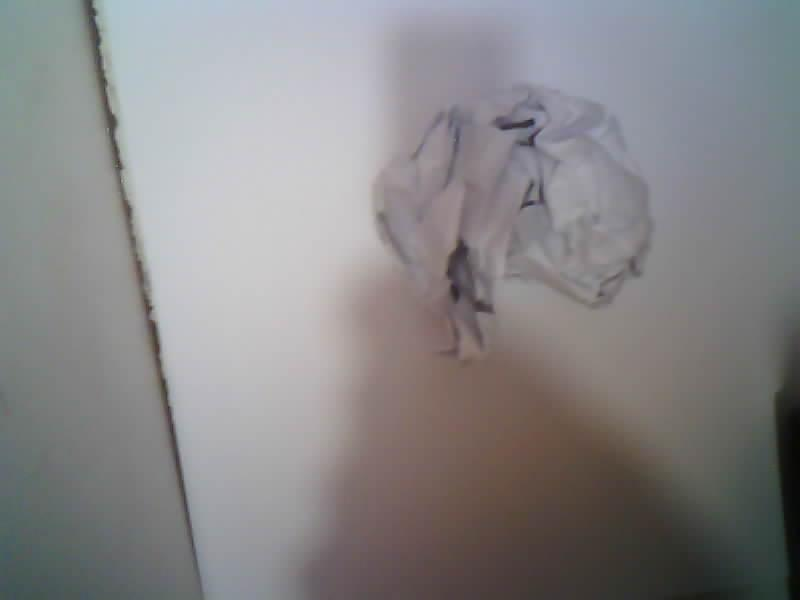biodegradable: (374, 85, 651, 358)
